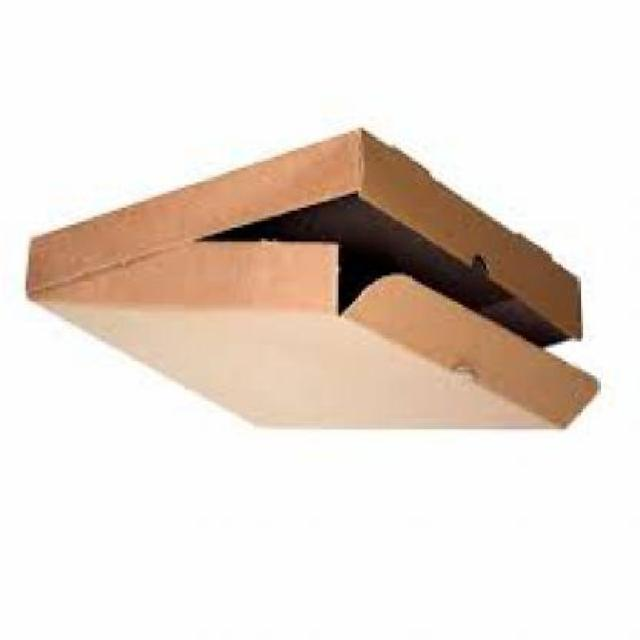CARDBOARD: (28, 128, 601, 432)
